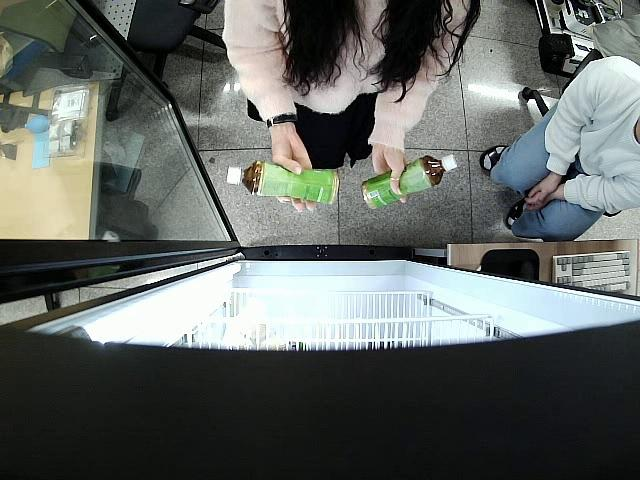00_hand: (272, 138, 321, 214), (372, 149, 408, 205)
19_17cha: (359, 153, 457, 209), (225, 159, 340, 204)
